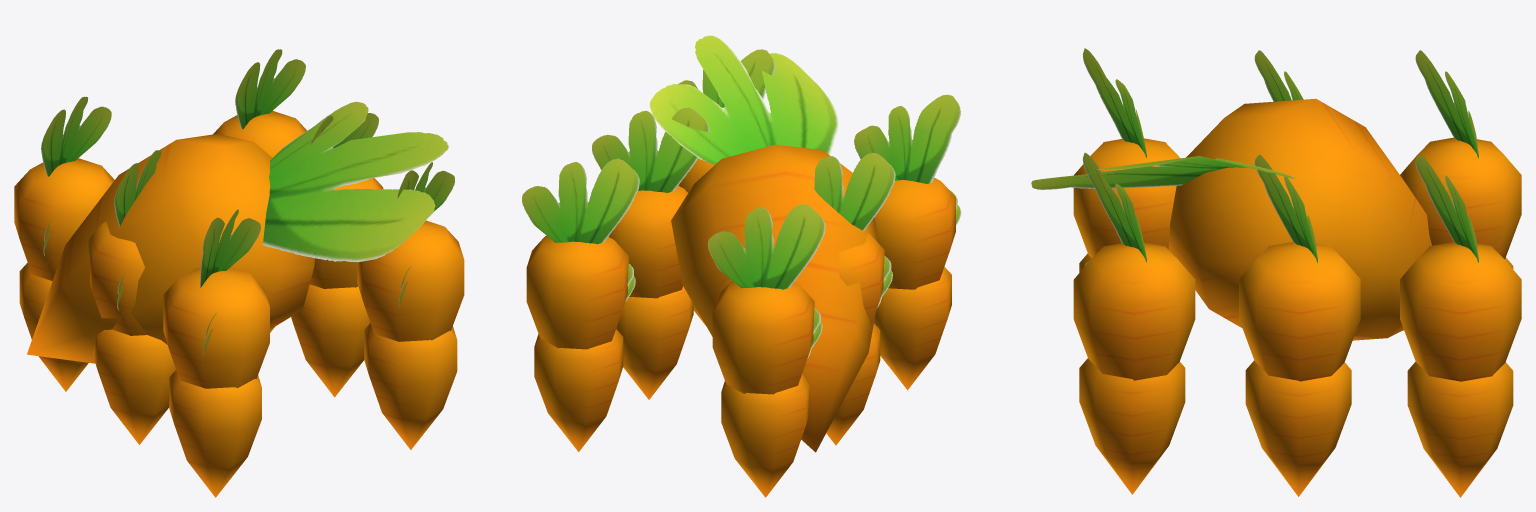
Rendered from Carrot_Stages.fbx.
3 renders of one model, left to right at view 1: azimuth 30°, elevation 25°; view 2: azimuth 150°, elevation 25°; view 3: azimuth 270°, elevation 25°, orthographic. The views are drawn at different scales.
Visible parts, largest first — view 1: Carrot, Carrot_Prized; view 2: Carrot, Carrot_Prized; view 3: Carrot, Carrot_Prized.
Boxes of the visible parts, bbox=[...] form: Carrot: bbox=[14, 49, 464, 497]; Carrot_Prized: bbox=[27, 101, 448, 363]; Carrot: bbox=[522, 49, 961, 497]; Carrot_Prized: bbox=[649, 35, 879, 452]; Carrot: bbox=[1073, 48, 1521, 497]; Carrot_Prized: bbox=[1031, 98, 1431, 340].
Size of the model in its own units: 148 by 148 by 183.
